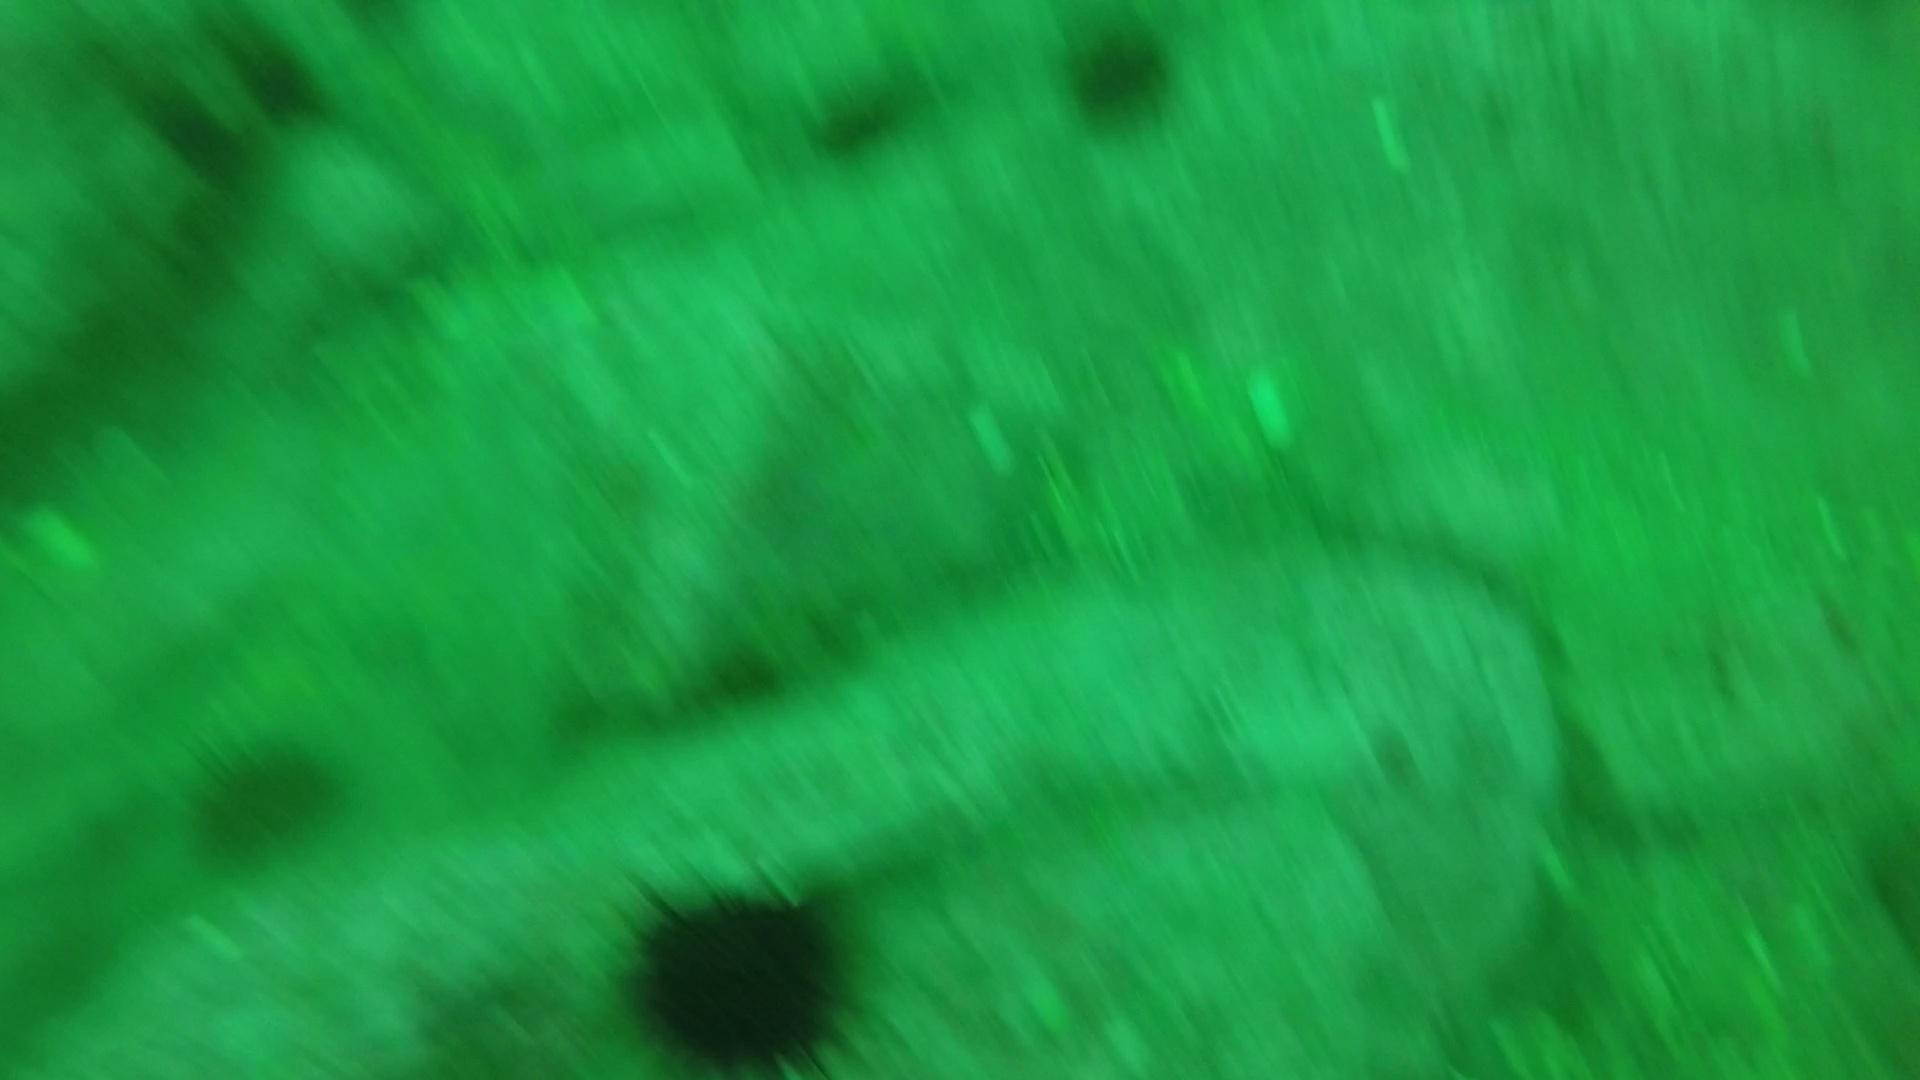echinus: (612, 868, 868, 1073), (183, 729, 345, 866), (1054, 18, 1182, 136), (804, 66, 918, 166), (231, 42, 332, 127)
